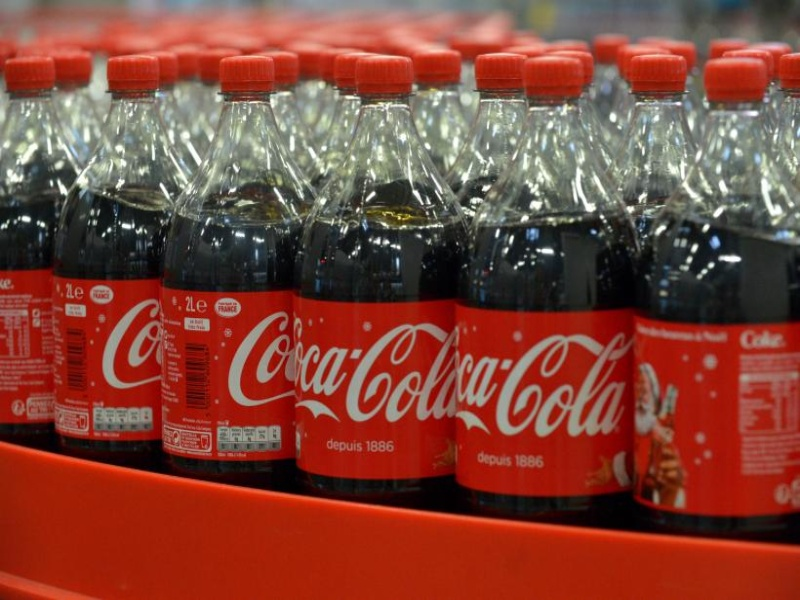Plastic bottle: (429, 32, 659, 518), (282, 42, 472, 512), (625, 37, 800, 522), (151, 56, 321, 452), (38, 46, 202, 434), (607, 39, 691, 214)
